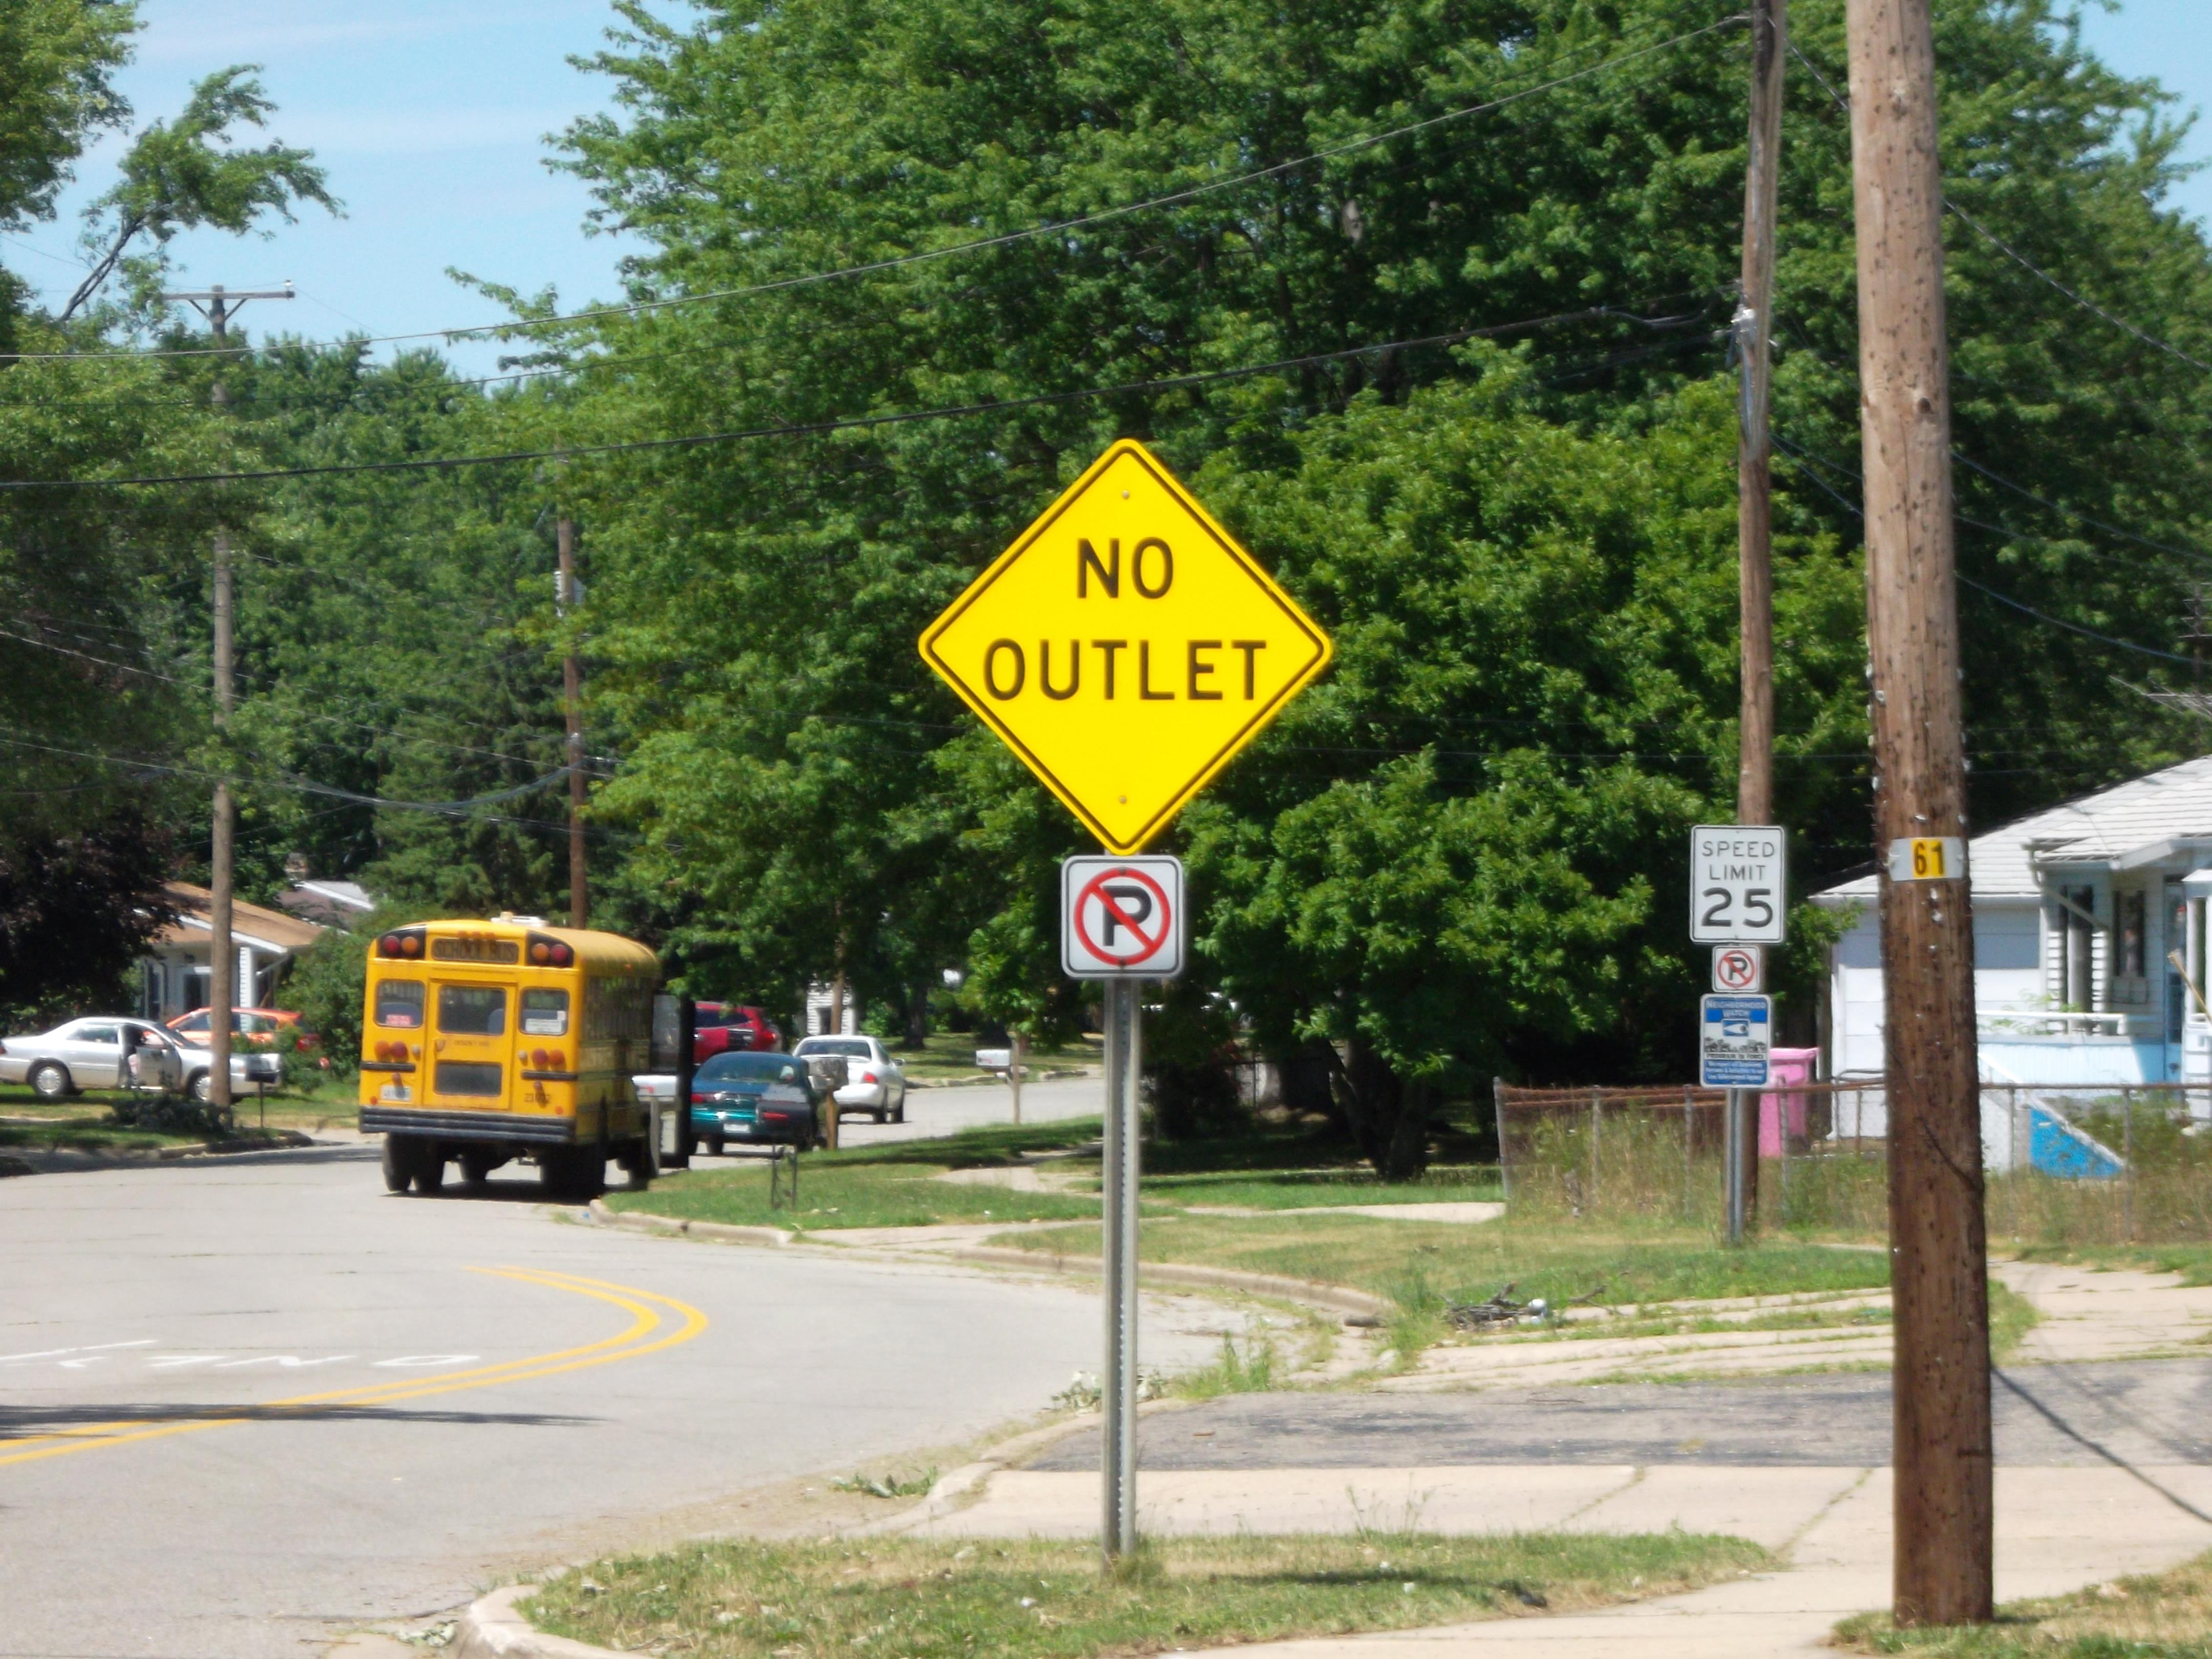regulatory: (1054, 849, 1200, 988), (1679, 810, 1806, 962)
warning: (899, 425, 1359, 857)
